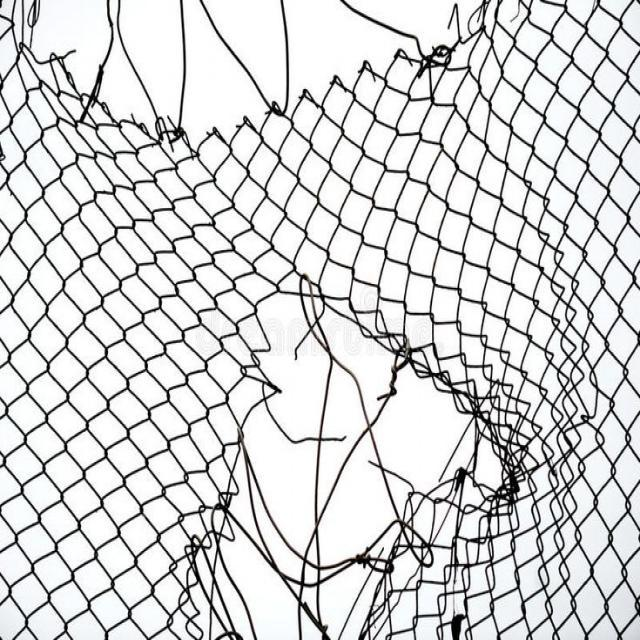fence line: (179, 291, 512, 638)
